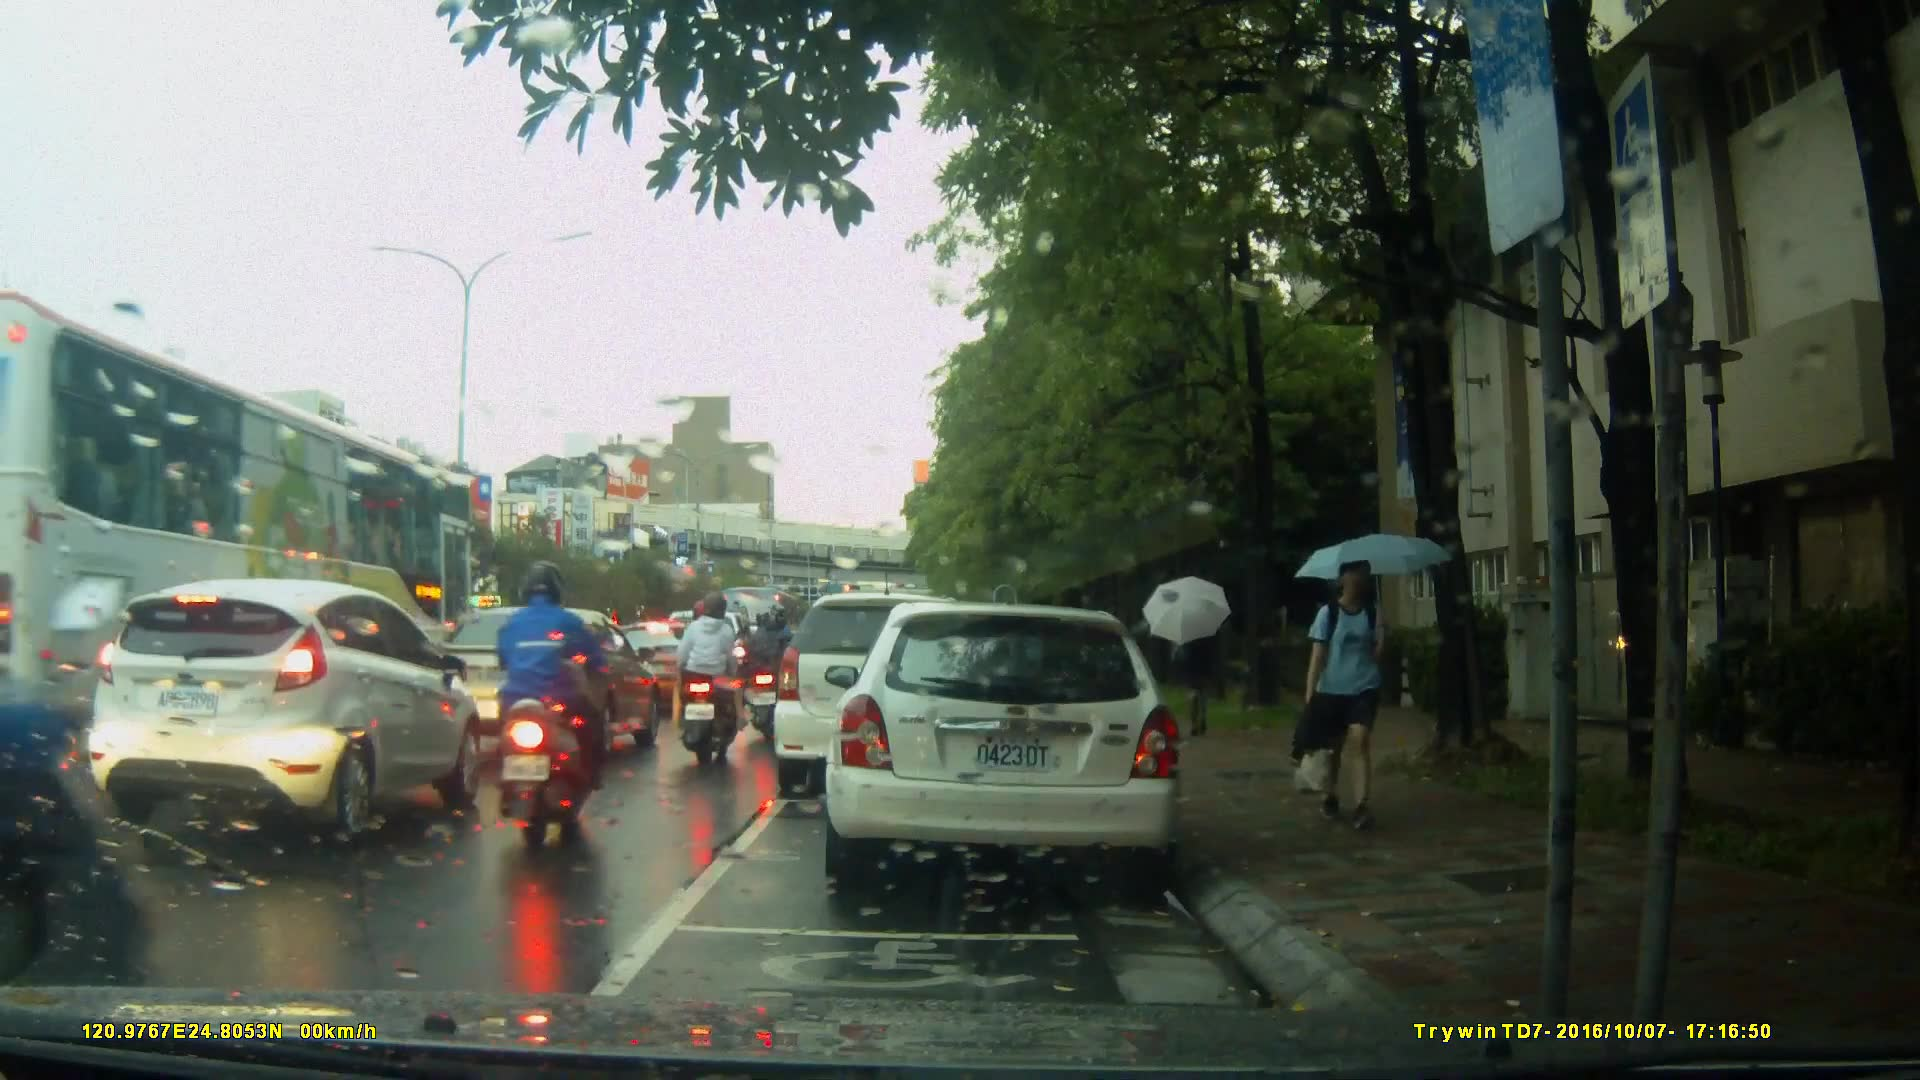pedestrian: (1288, 548, 1412, 828), (1171, 607, 1224, 736)
rider: (501, 562, 608, 839), (678, 593, 752, 777), (745, 604, 786, 742)
vehicle: (1, 295, 492, 803), (82, 575, 485, 846), (835, 594, 1194, 898), (776, 590, 1026, 784), (402, 604, 654, 758), (606, 619, 729, 714)
